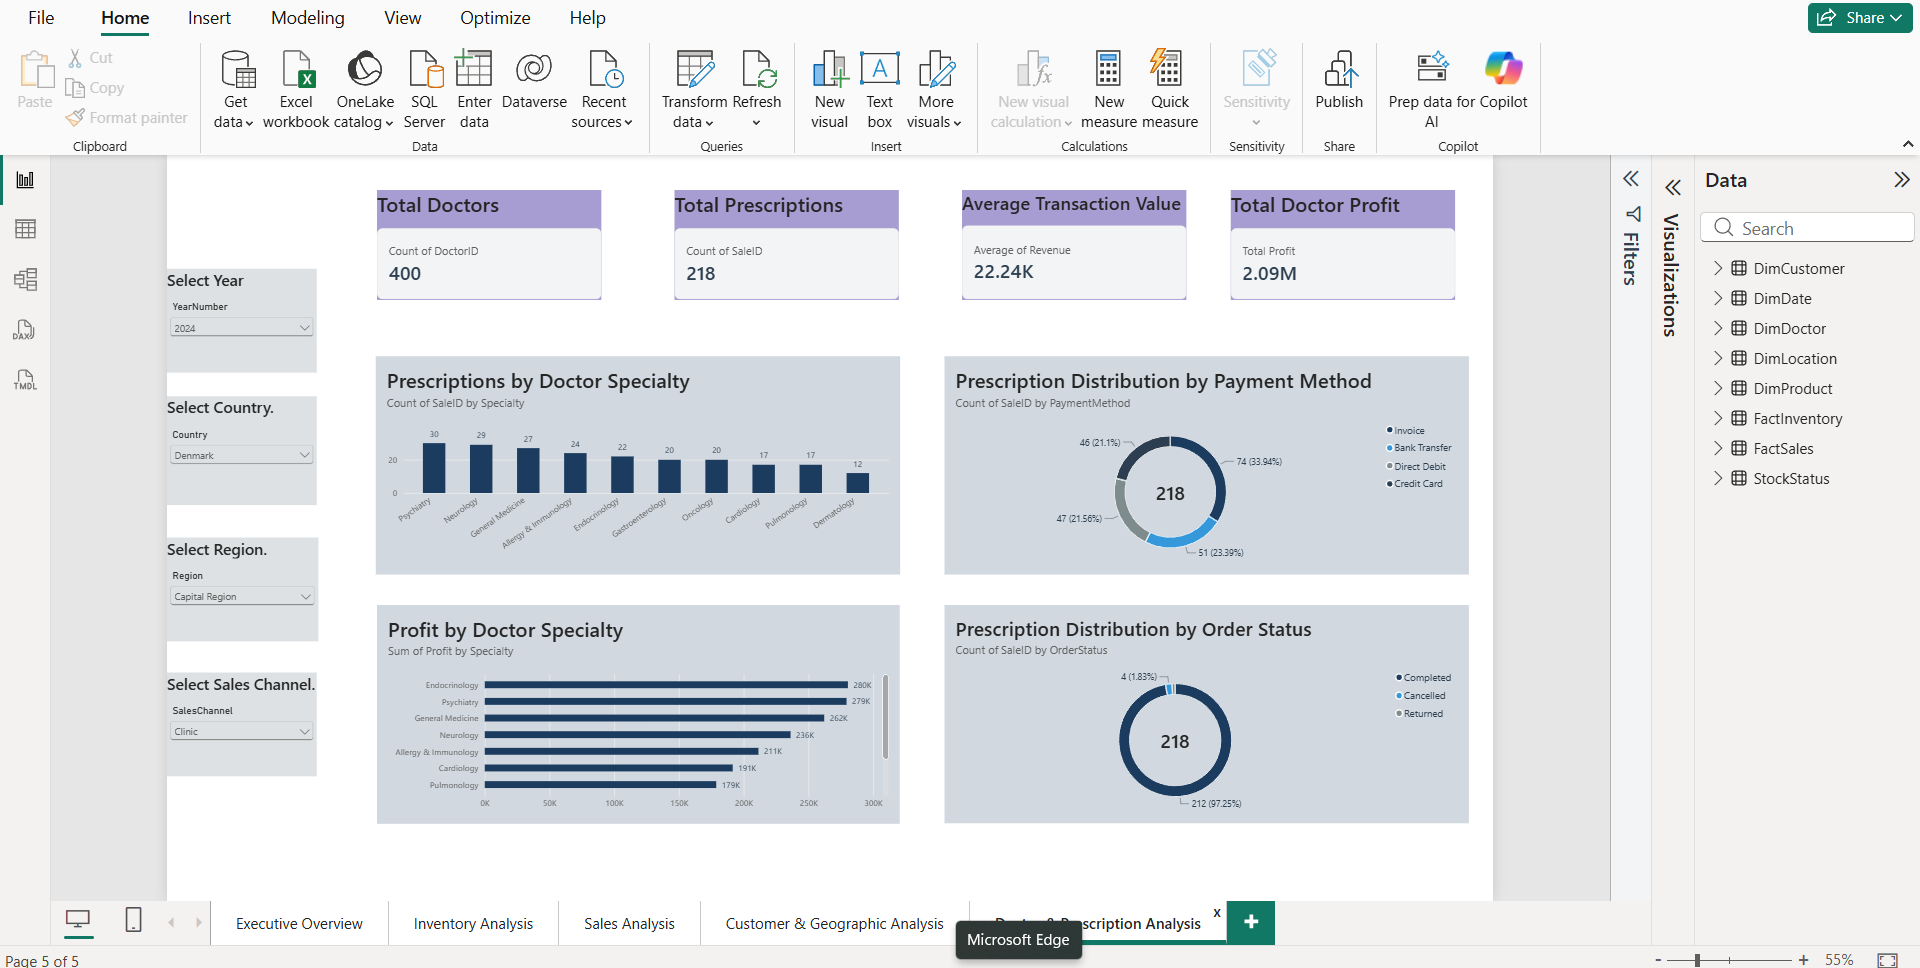

The dashboard page shown, as its layout file describes it:
{"tool":"powerbi","page":{"name":"Doctor & Prescription Analysis","canvas":[1920,1080],"ordinal":4},"visuals":[{"type":"cardVisual","title":"Total Doctors","fields":{"Data":["Count(DimDoctor.DoctorID)"]},"box":[304,50.7,325,159],"z":0},{"type":"cardVisual","title":"Total Prescriptions","fields":{"Data":["CountNonNull(FactSales.SaleID)"]},"box":[734.7,50.7,325,159],"z":1000},{"type":"cardVisual","title":"Average Transaction Value","fields":{"Data":["Avg(FactSales.Revenue)"]},"box":[1150.9,50.7,325,159],"z":1001},{"type":"cardVisual","title":"Total Doctor Profit","fields":{"Data":["FactSales.Total Profit"]},"box":[1540,50.7,325,159],"z":1002},{"type":"clusteredColumnChart","title":"Prescriptions by Doctor Specialty","fields":{"Category":["DimDoctor.Specialty"],"Y":["CountNonNull(FactSales.SaleID)"]},"box":[302.2,291.4,759,316],"z":1003},{"type":"donutChart","title":"Prescription Distribution by Payment Method","fields":{"Category":["FactSales.PaymentMethod"],"Y":["CountNonNull(FactSales.SaleID)"]},"box":[1125.6,291.4,759,316],"z":1004},{"type":"clusteredBarChart","title":"Profit by Doctor Specialty","fields":{"Category":["DimDoctor.Specialty"],"Y":["Sum(FactSales.Profit)"]},"box":[304,651.5,756.4,316.7],"z":1005},{"type":"donutChart","title":"Prescription Distribution by Order Status","fields":{"Category":["FactSales.OrderStatus"],"Y":["CountNonNull(FactSales.SaleID)"]},"box":[1125.6,651.5,759,316],"z":1006},{"type":"slicer","title":"Select Year","fields":{"Values":["DimDate.YearNumber"]},"box":[0,165,217,150],"z":1007},{"type":"slicer","title":"Select Country.","fields":{"Values":["DimLocation.Country"]},"box":[0,349.3,217.2,157.4],"z":1008},{"type":"slicer","title":"Select Region.","fields":{"Values":["DimLocation.Region"]},"box":[0,553.8,219,150.2],"z":1009},{"type":"slicer","title":"Select Sales Channel.","fields":{"Values":["FactSales.SalesChannel"]},"box":[0,749.2,217.2,150.2],"z":1010}]}

Visuals, with their boxes on the page's 1920x1080 design canvas (x1, y1, x2, y2). These are canvas units, not pixel positions in the 1920x968 screenshot, which may show the page scaled, cropped or inside an application window:
"Total Doctors" cardVisual: 304:51:629:210
"Total Prescriptions" cardVisual: 735:51:1060:210
"Average Transaction Value" cardVisual: 1151:51:1476:210
"Total Doctor Profit" cardVisual: 1540:51:1865:210
"Prescriptions by Doctor Specialty" clusteredColumnChart: 302:291:1061:607
"Prescription Distribution by Payment Method" donutChart: 1126:291:1885:607
"Profit by Doctor Specialty" clusteredBarChart: 304:652:1060:968
"Prescription Distribution by Order Status" donutChart: 1126:652:1885:968
"Select Year" slicer: 0:165:217:315
"Select Country." slicer: 0:349:217:507
"Select Region." slicer: 0:554:219:704
"Select Sales Channel." slicer: 0:749:217:899
